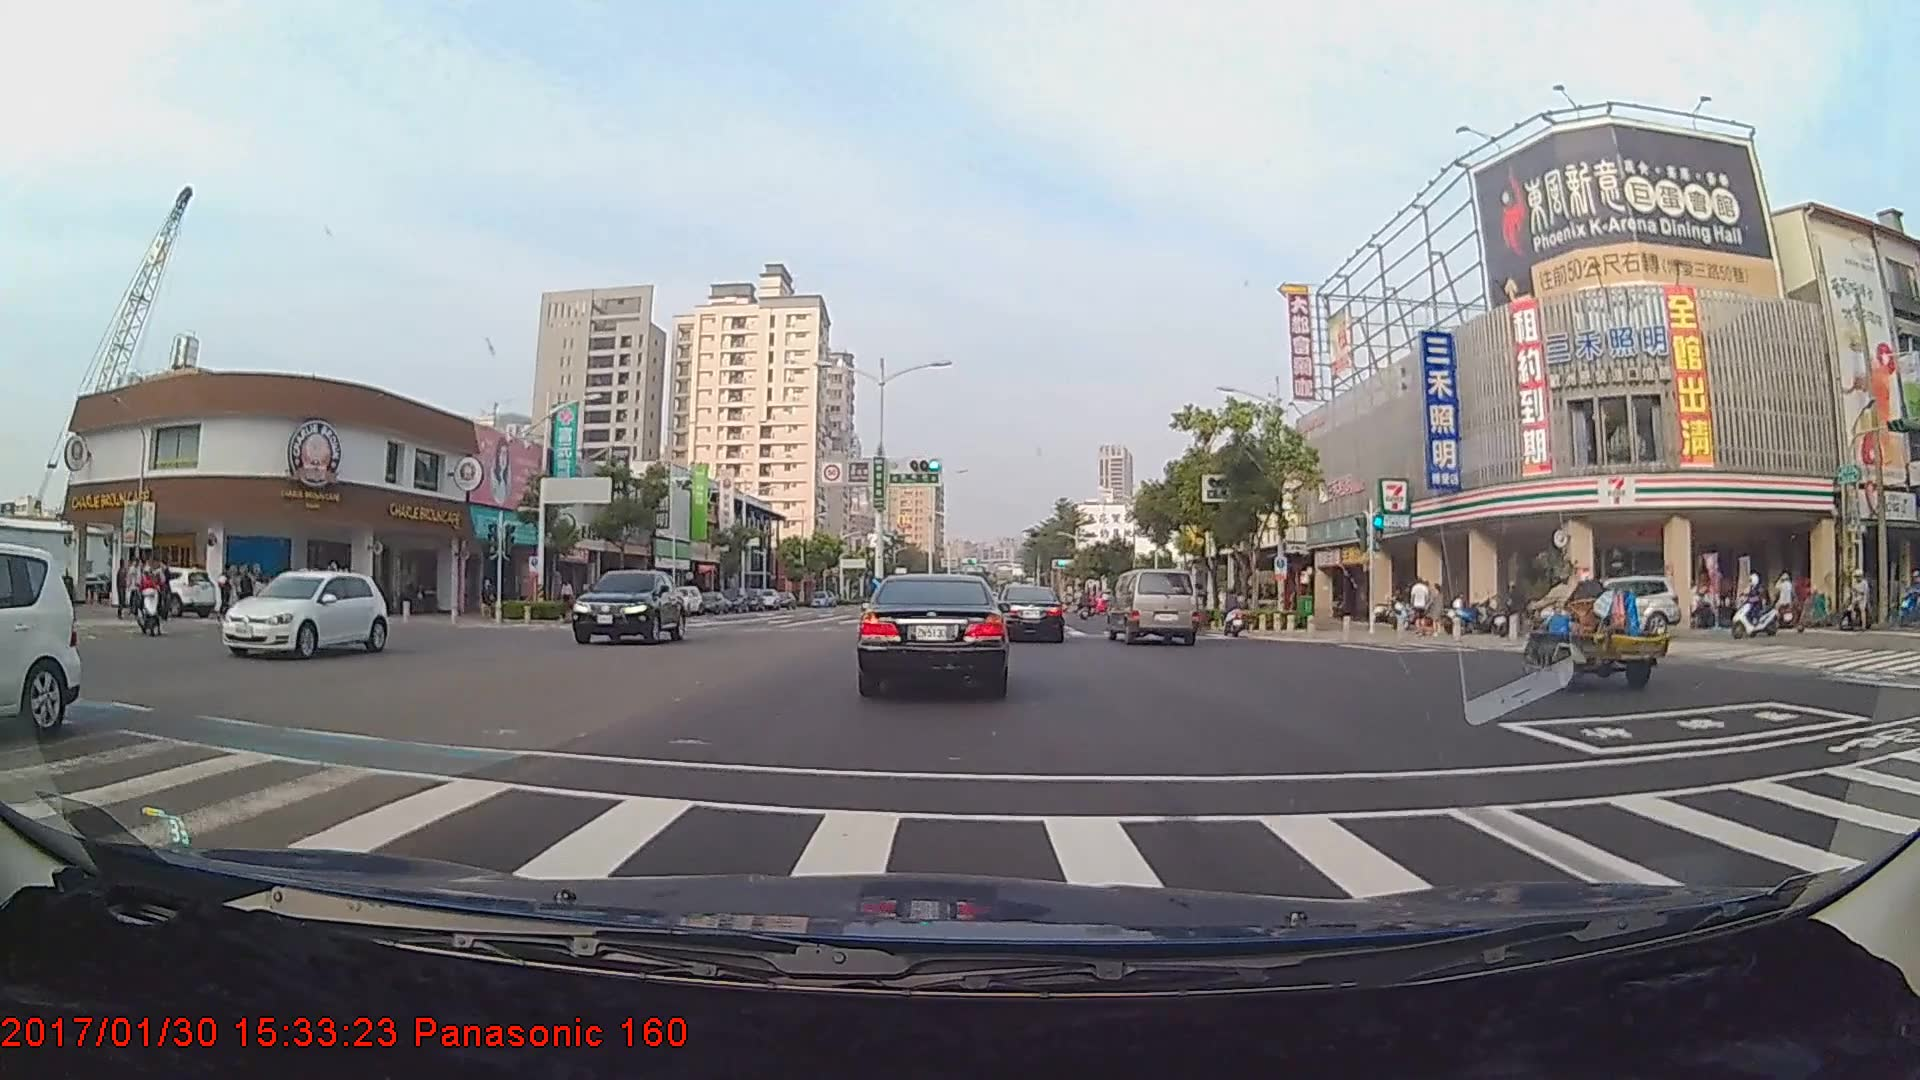pedestrian: (1410, 576, 1432, 636)
rider: (1727, 570, 1788, 643), (129, 561, 171, 637), (1216, 584, 1257, 640)
vehicle: (859, 569, 1009, 697), (221, 568, 391, 662), (0, 542, 78, 741), (1527, 574, 1679, 638), (572, 569, 684, 644), (1108, 568, 1198, 646), (995, 584, 1065, 643)
